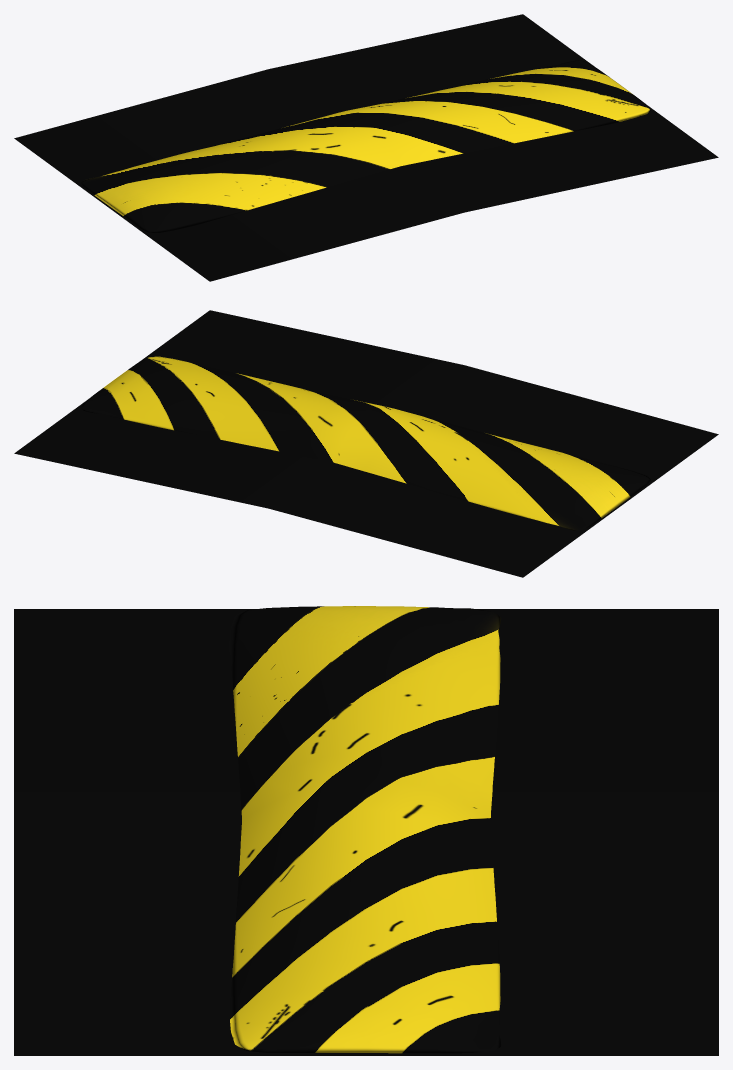
The model's file is Rua_3_Faixas_Lombada.fbx.
3 views of the same model, one above another, from view 1: azimuth 30°, elevation 25°; view 2: azimuth 150°, elevation 25°; view 3: azimuth 270°, elevation 25° (orthographic). The views are drawn at different scales.
Visible parts, largest first — view 1: Rua_3_Faixas, Cube; view 2: Rua_3_Faixas, Cube; view 3: Rua_3_Faixas, Cube.
Part boxes in pixels (x1=…): Rua_3_Faixas: x1=14, y1=14, x2=718, y2=281; Cube: x1=81, y1=60, x2=650, y2=232; Rua_3_Faixas: x1=14, y1=310, x2=718, y2=577; Cube: x1=81, y1=356, x2=650, y2=530; Rua_3_Faixas: x1=14, y1=609, x2=718, y2=1055; Cube: x1=229, y1=606, x2=500, y2=1053.
Bounding box in the file's own units: 750 × 43.79 × 500.
Materials: 2 (1 with a texture image).
